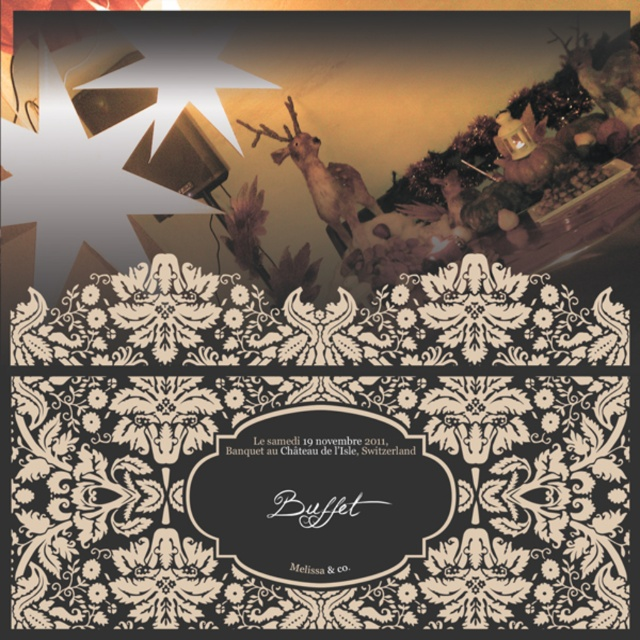Deer: (240, 97, 389, 246), (550, 27, 639, 105)
